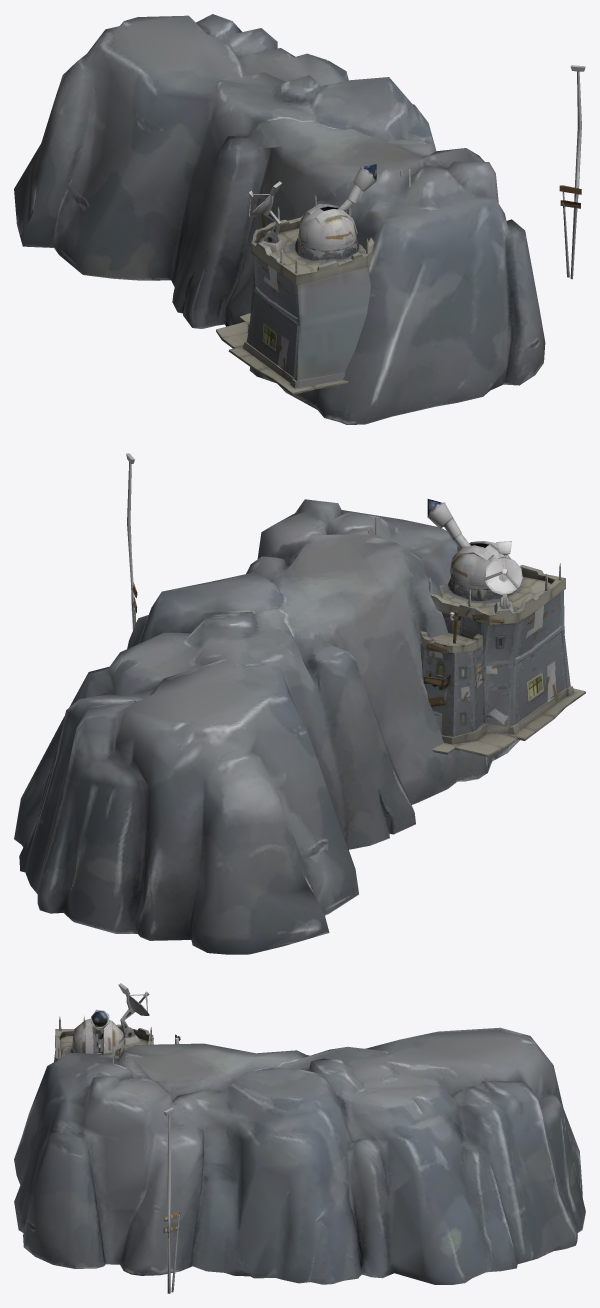
File: Skybox_Outpost_HomeBase.glb
3 renders of one model, top to bottom at view 1: azimuth 30°, elevation 25°; view 2: azimuth 150°, elevation 25°; view 3: azimuth 270°, elevation 25°, orthographic. The views are drawn at different scales.
Parts seen in each view (by area): view 1: SM_HB_Rock_Cliff, SM_HB_Center_Command; view 2: SM_HB_Rock_Cliff, SM_HB_Center_Command; view 3: SM_HB_Rock_Cliff, SM_HB_Center_Command.
Part boxes in pixels (x1,y1,x2,y2): SM_HB_Rock_Cliff: (14, 14, 545, 424); SM_HB_Center_Command: (216, 65, 585, 394); SM_HB_Rock_Cliff: (14, 499, 519, 954); SM_HB_Center_Command: (126, 453, 585, 757); SM_HB_Rock_Cliff: (14, 1027, 585, 1284); SM_HB_Center_Command: (54, 983, 180, 1293).
Size of the model in its own units: 2.41 by 1.38 by 3.58.
Materials: 4 (4 with a texture image).
